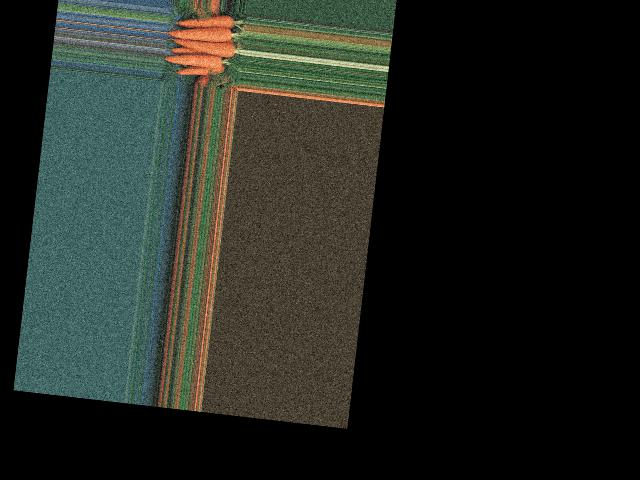carrot: (166, 48, 226, 73)
